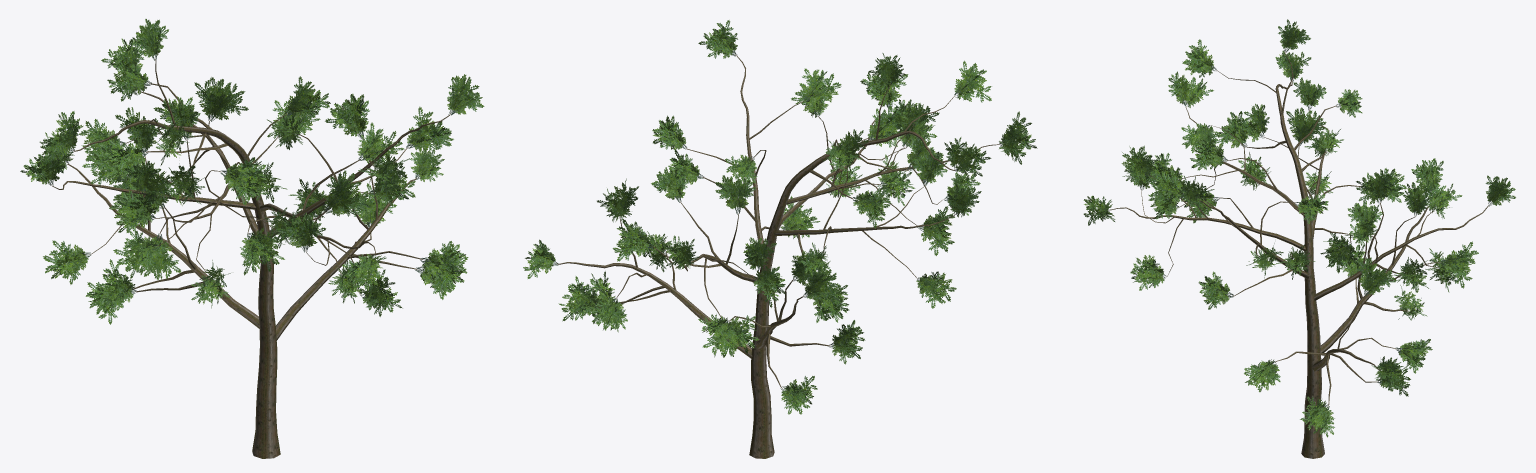
Rendered from BigleafMaple_1.obj.
3 views of the same model, side by side, from view 1: azimuth 30°, elevation 25°; view 2: azimuth 150°, elevation 25°; view 3: azimuth 270°, elevation 25° (orthographic). The views are drawn at different scales.
Visible parts, largest first — view 1: BigleafMaple_1; view 2: BigleafMaple_1; view 3: BigleafMaple_1.
Part boxes in pixels (x1=…): BigleafMaple_1: x1=20, y1=19, x2=484, y2=458; BigleafMaple_1: x1=523, y1=20, x2=1037, y2=458; BigleafMaple_1: x1=1083, y1=19, x2=1515, y2=458.
Bounding box in the file's own units: 168 × 162 × 172.
2 materials, 2 textured.
